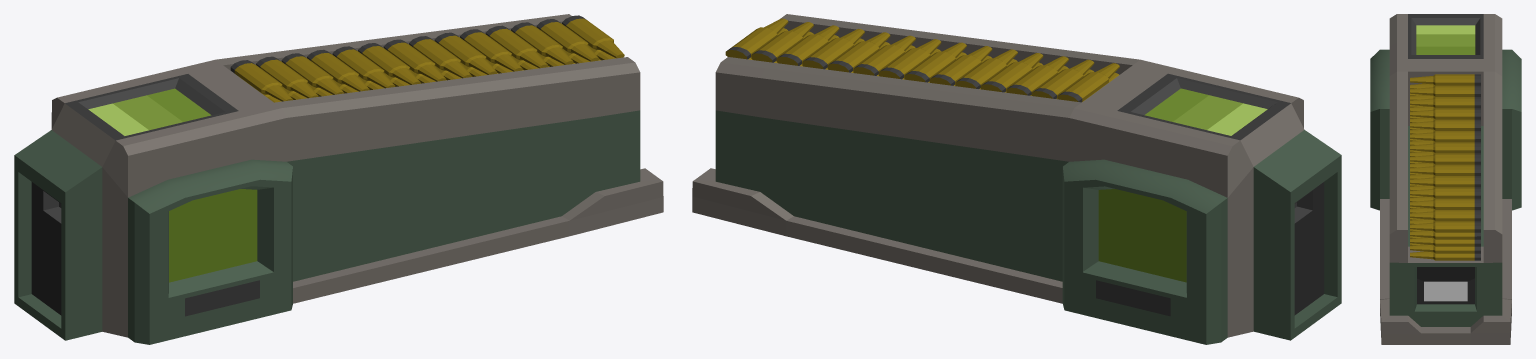
File: AmmoPickup.fbx
The picture shows the model from 3 angles, left to right: view 1: azimuth 30°, elevation 25°; view 2: azimuth 150°, elevation 25°; view 3: azimuth 270°, elevation 25°; orthographic projection. The views are drawn at different scales.
Parts seen in each view (by area): view 1: Cube; view 2: Cube; view 3: Cube.
Part boxes in pixels (box(x1,y1,x2,y2)): Cube: box(14, 14, 663, 344); Cube: box(692, 14, 1341, 344); Cube: box(1370, 14, 1521, 344).
Size of the model in its own units: 83.64 by 26.1 by 25.54.
